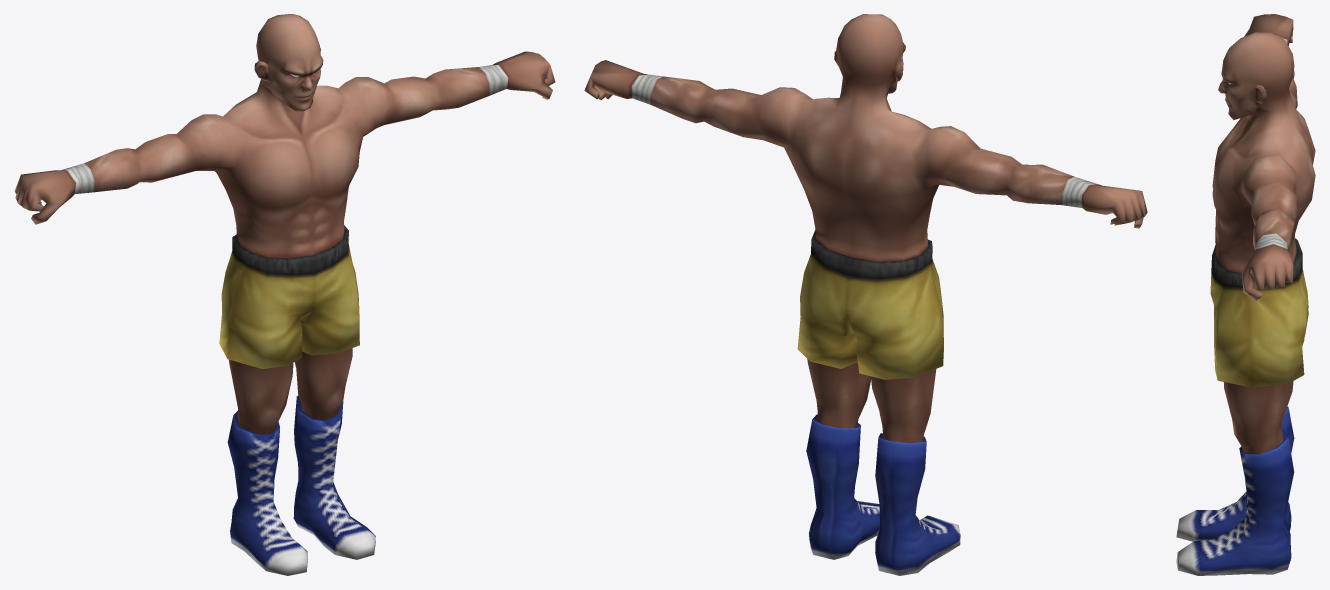
File: FightherA.obj
The picture shows the model from 3 angles, left to right: view 1: azimuth 30°, elevation 25°; view 2: azimuth 150°, elevation 25°; view 3: azimuth 270°, elevation 25°; orthographic projection. The views are drawn at different scales.
Parts seen in each view (by area): view 1: Regroup00; view 2: Regroup00; view 3: Regroup00.
Boxes of the visible parts, x1,y1,x2,y2 form: Regroup00: (14, 14, 555, 575); Regroup00: (584, 14, 1147, 575); Regroup00: (1176, 14, 1315, 575).
Size of the model in its own units: 1.07 by 1 by 0.2456.
Materials: 1 (1 with a texture image).
